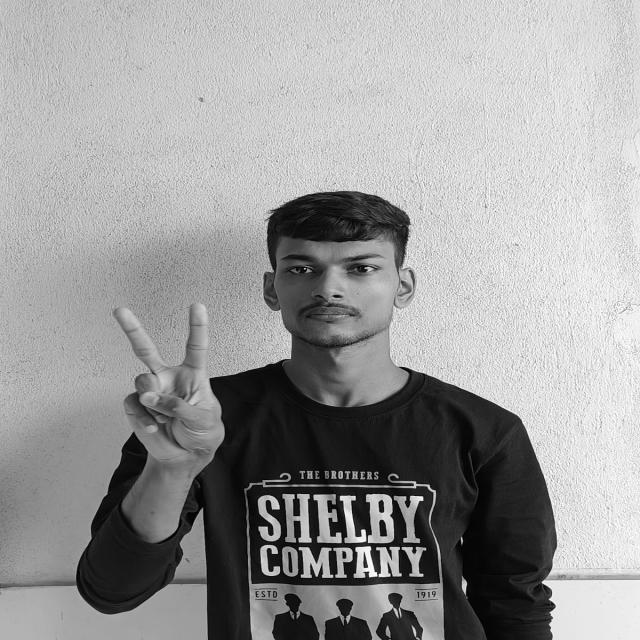Victory: (108, 304, 233, 460)
